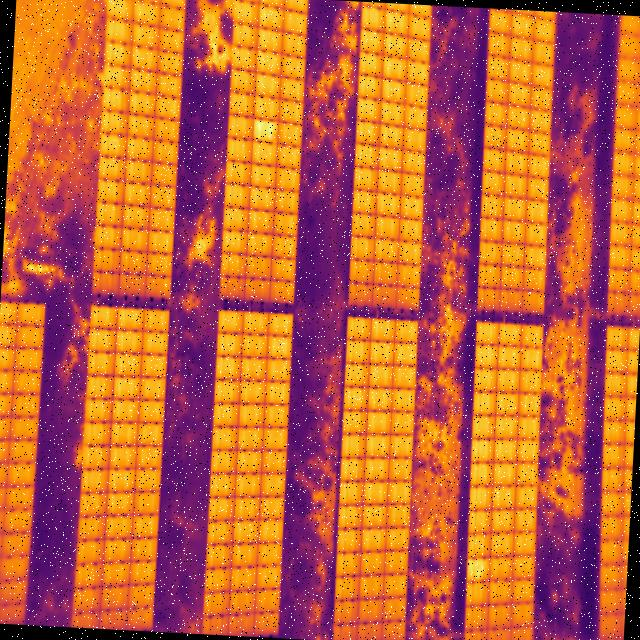Hotspot: (254, 120, 276, 142)
